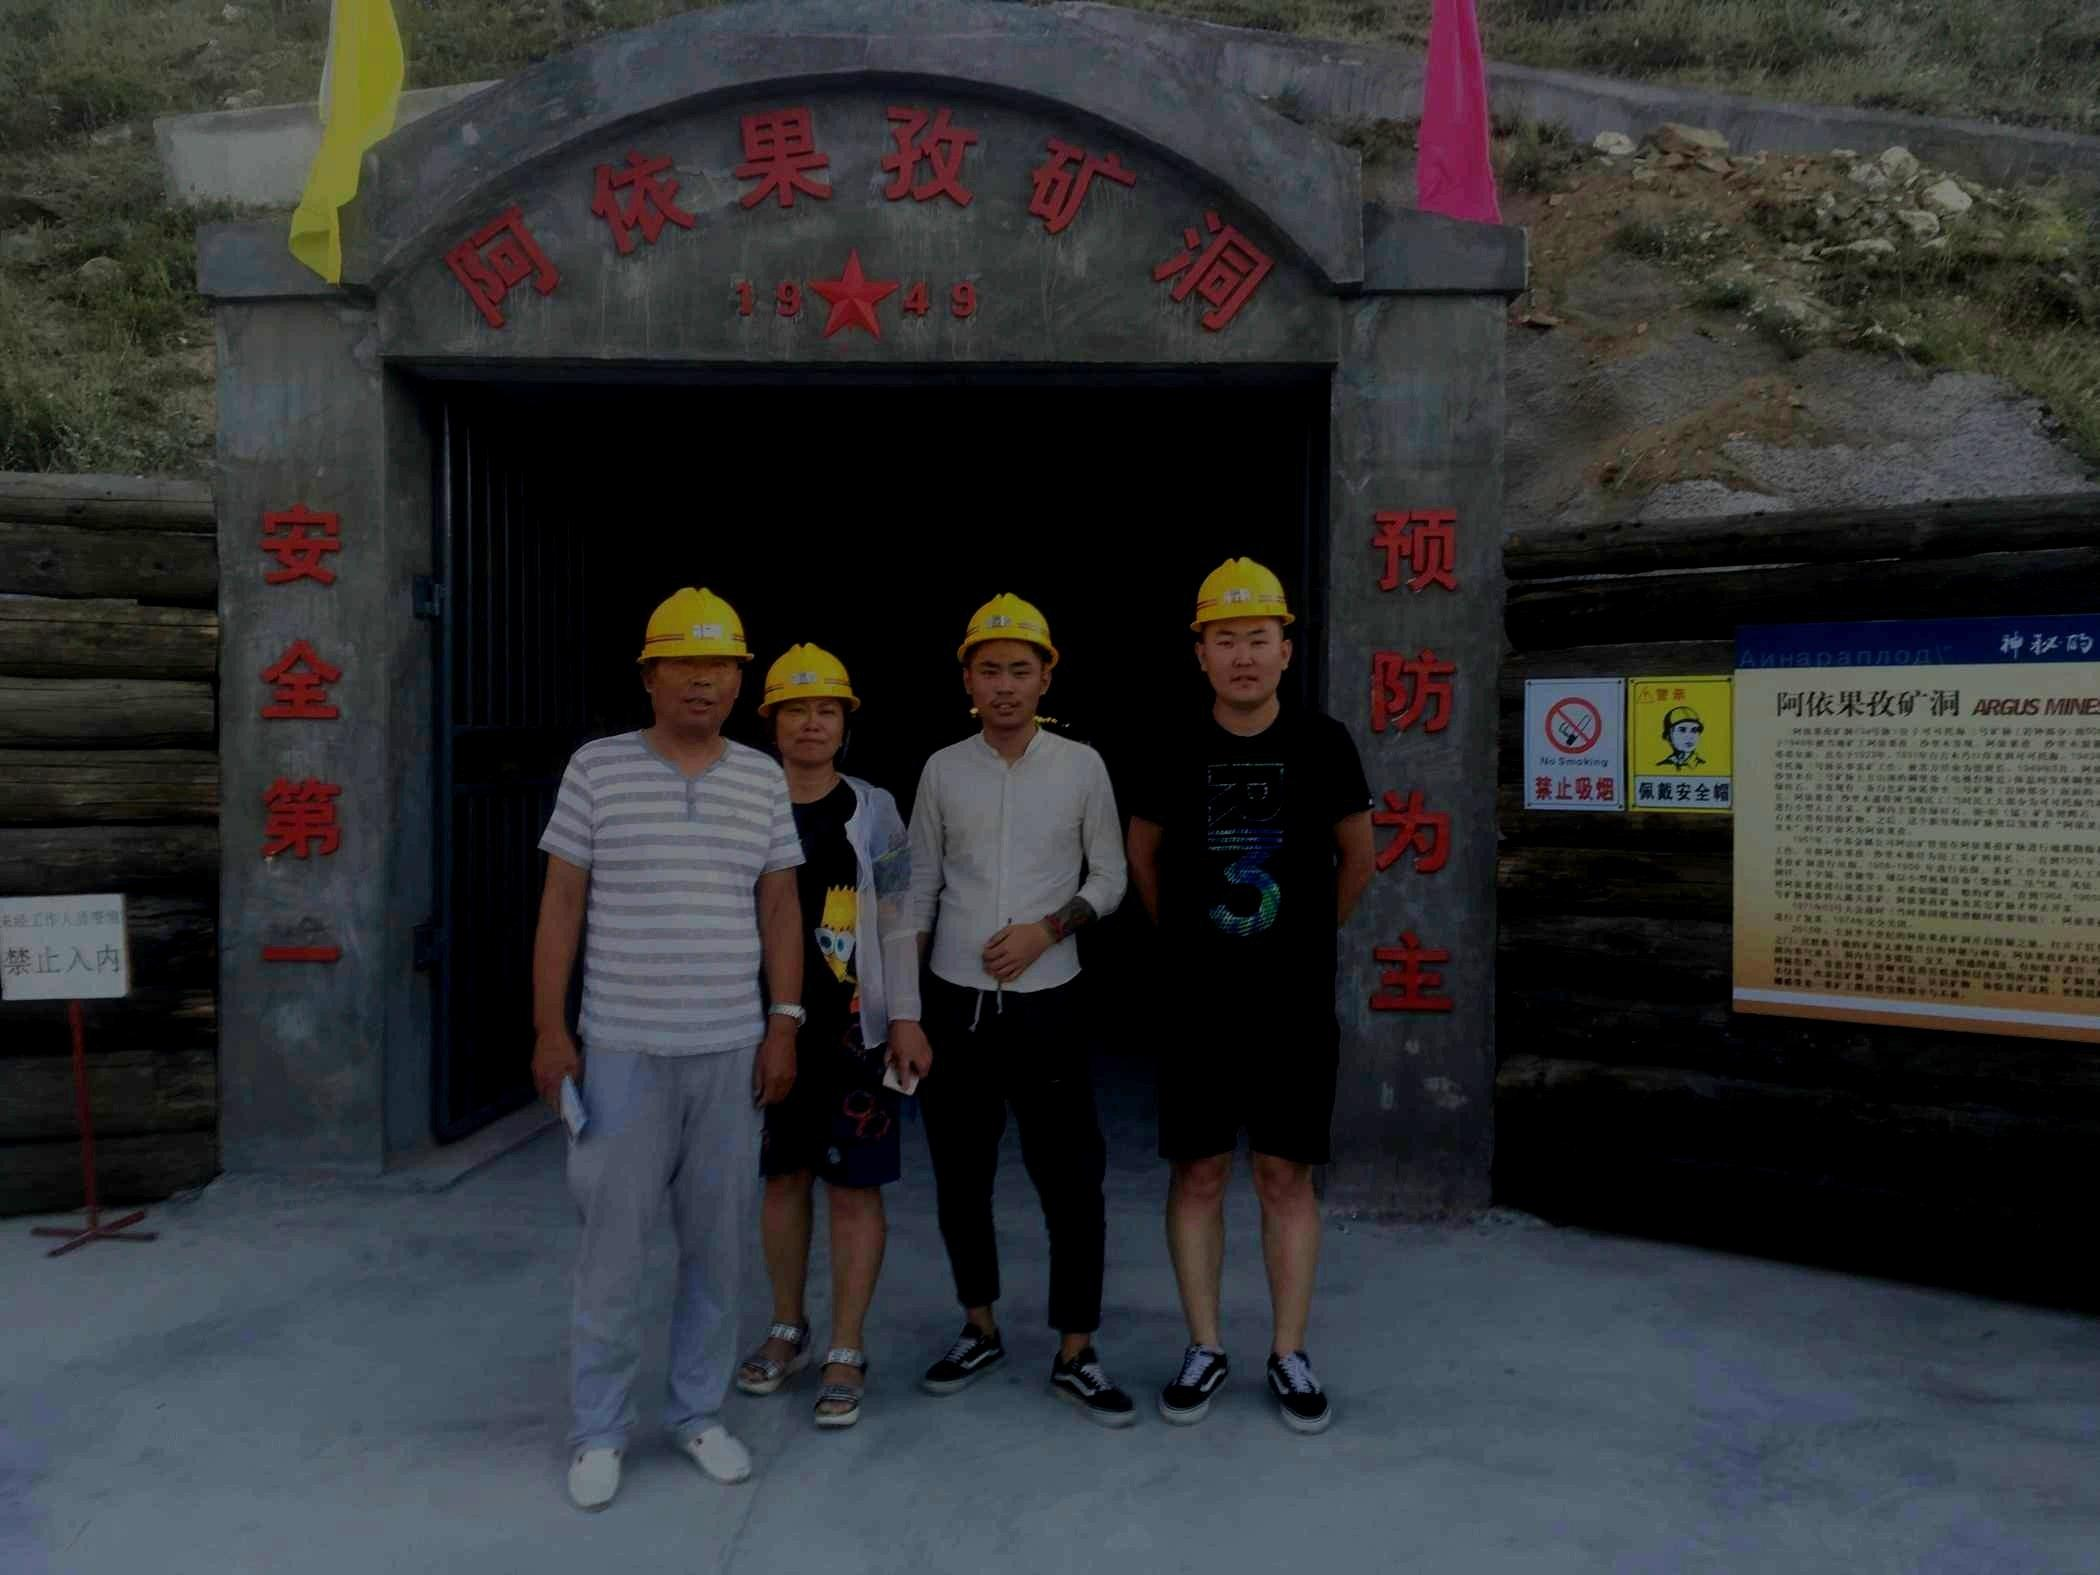helmet: (638, 587, 754, 726), (1191, 556, 1295, 701), (956, 592, 1058, 728), (757, 640, 858, 763)
